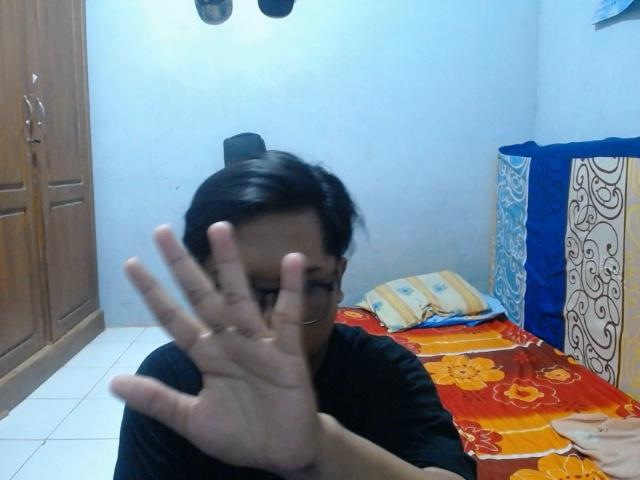Release: (102, 218, 326, 476)
